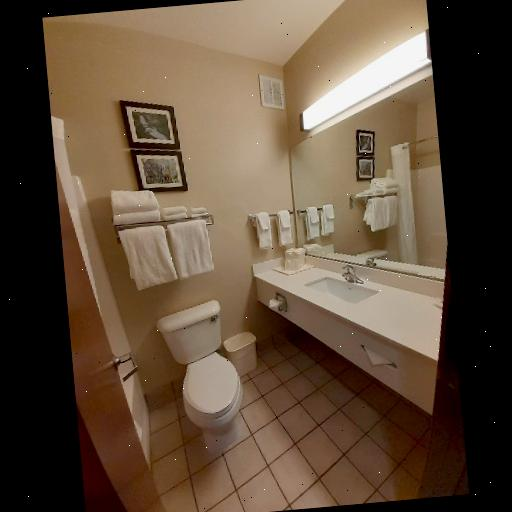clean mirror: (268, 83, 448, 268)
clean_floor: (146, 342, 460, 512)
clean_sink: (245, 245, 450, 417)
clean_toilet: (155, 296, 258, 456)
folded_towel: (116, 222, 218, 289), (104, 190, 161, 228), (254, 208, 296, 252), (156, 204, 212, 224)
